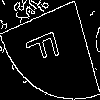F: (24, 24, 67, 68)
